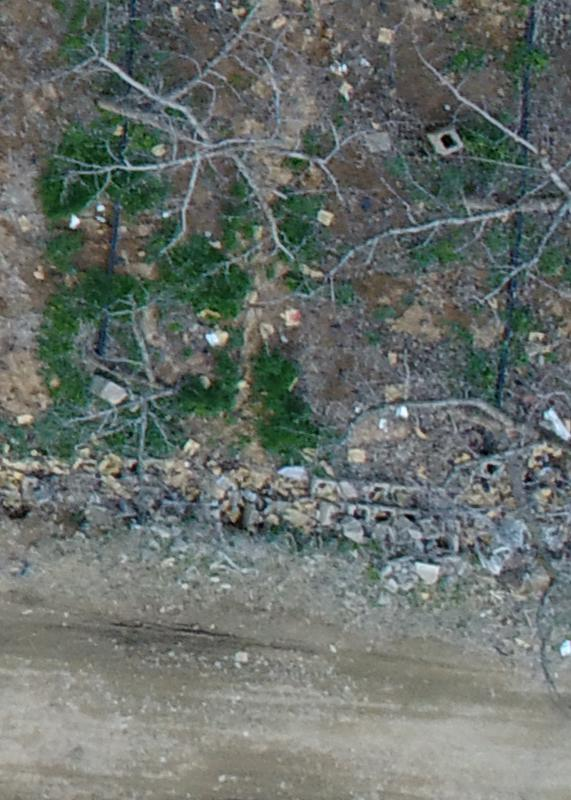apple: (52, 10, 362, 311), (48, 313, 212, 486)
